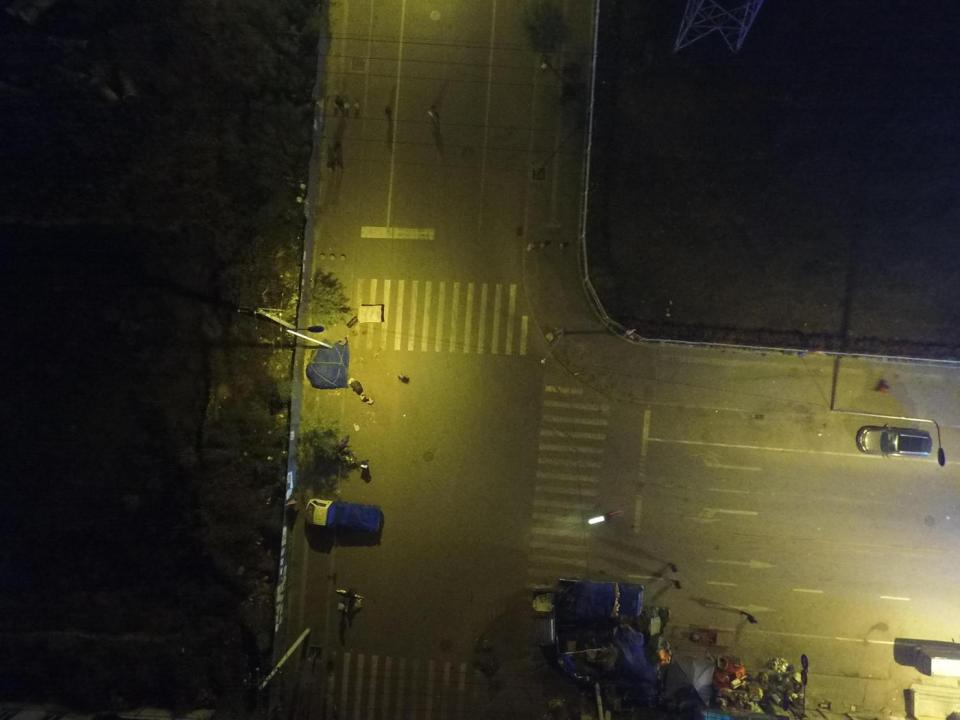truck: (557, 578, 644, 619), (305, 498, 380, 533), (532, 586, 556, 646)
van: (856, 426, 932, 458), (914, 645, 960, 675)
